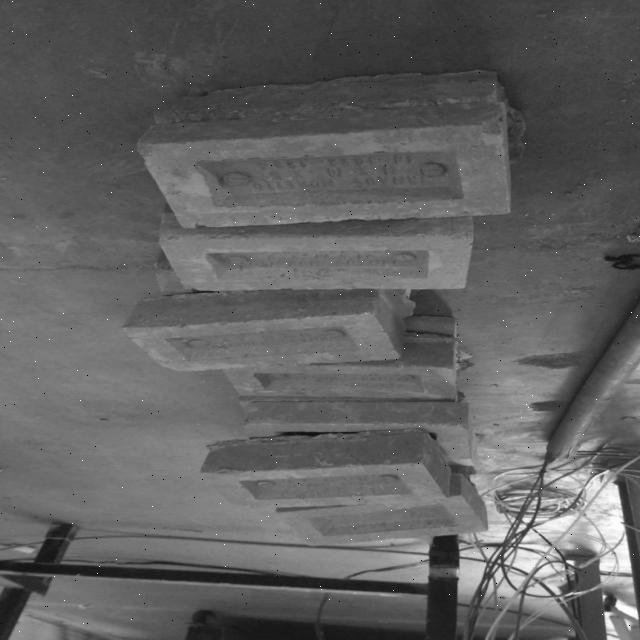bricks: (134, 104, 512, 226), (156, 217, 481, 290), (126, 294, 403, 371), (145, 68, 510, 121), (202, 432, 455, 507), (267, 465, 486, 546), (223, 335, 460, 401), (236, 402, 473, 465)
